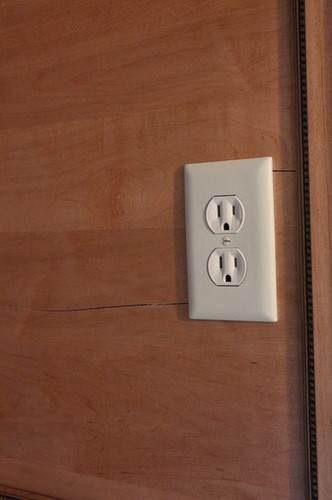outlet: (214, 252, 242, 286), (212, 198, 237, 233)
